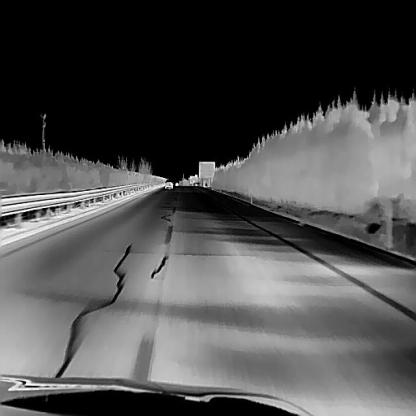car: (164, 177, 172, 188)
